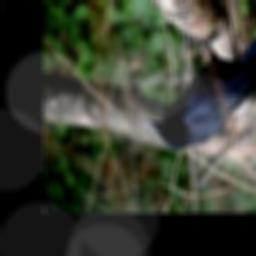Crow: (149, 8, 256, 151)
